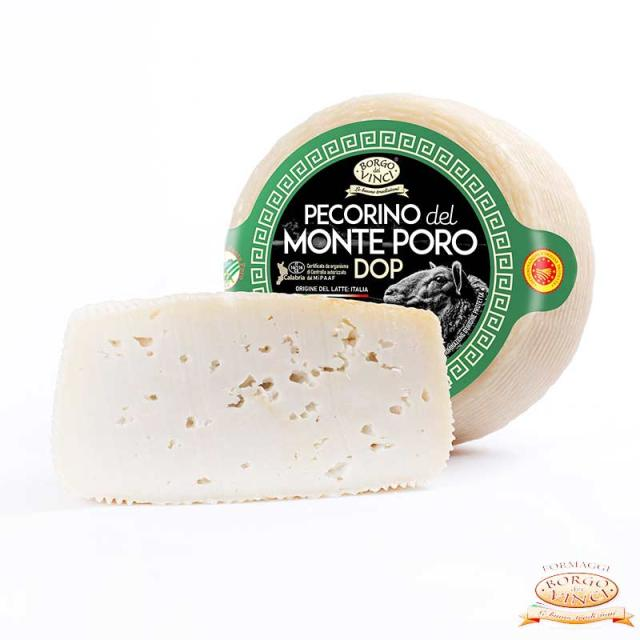Cheese: (207, 91, 592, 463), (38, 273, 460, 518)
